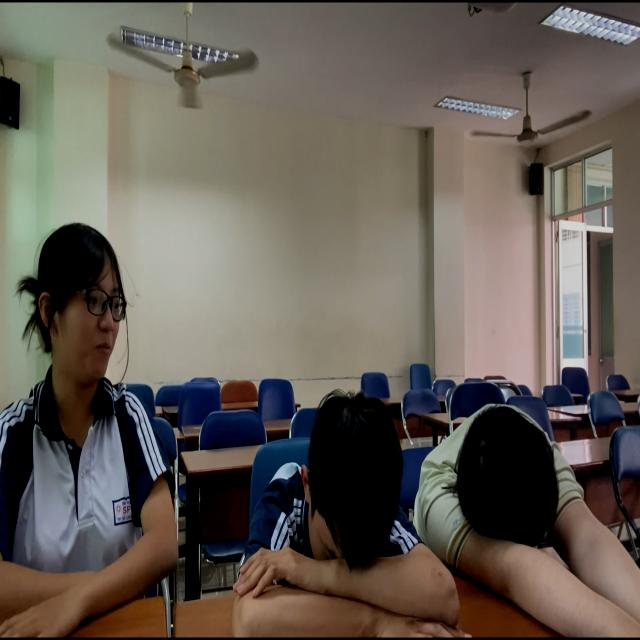sleep: (221, 388, 482, 640), (418, 367, 640, 640)
